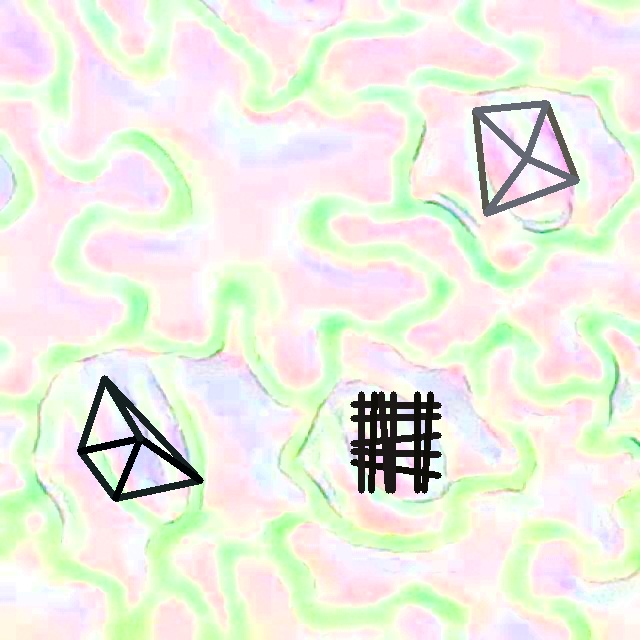open: (78, 376, 203, 501), (472, 100, 579, 216), (350, 391, 441, 493)
